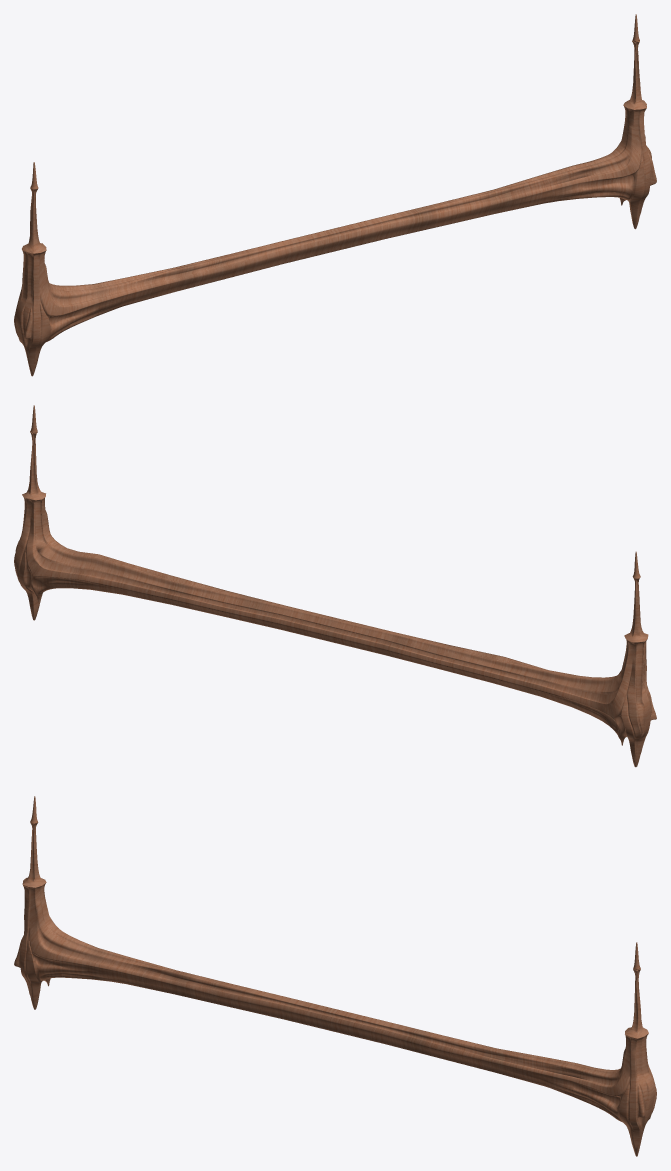
Rendered from Geonosis_BridgeArch01.fbx.
3 renders of one model, top to bottom at view 1: azimuth 30°, elevation 25°; view 2: azimuth 150°, elevation 25°; view 3: azimuth 330°, elevation 25°, orthographic.
Parts seen in each view (by area): view 1: bridgeArch01; view 2: bridgeArch01; view 3: bridgeArch01.
Part boxes in pixels (x1=…): bridgeArch01: x1=14, y1=14, x2=656, y2=376; bridgeArch01: x1=14, y1=405, x2=656, y2=767; bridgeArch01: x1=14, y1=796, x2=656, y2=1156.
Size of the model in its own units: 1673 by 544 by 98.07.
